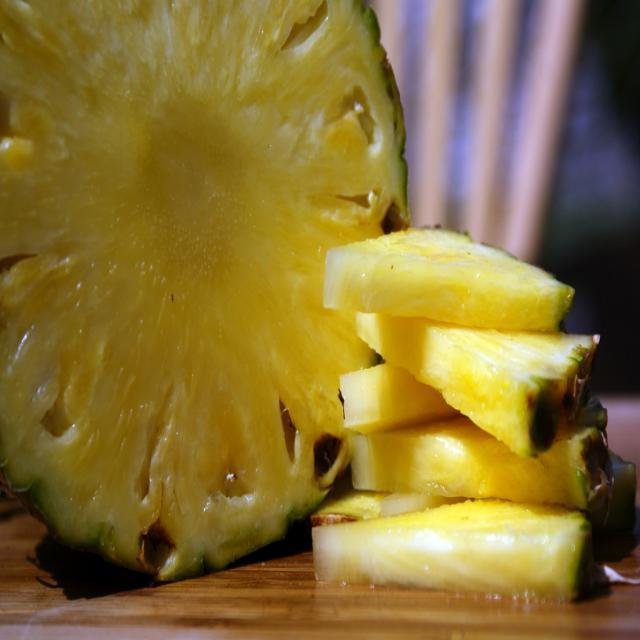Pineapple: (0, 0, 416, 590), (307, 212, 640, 614)
